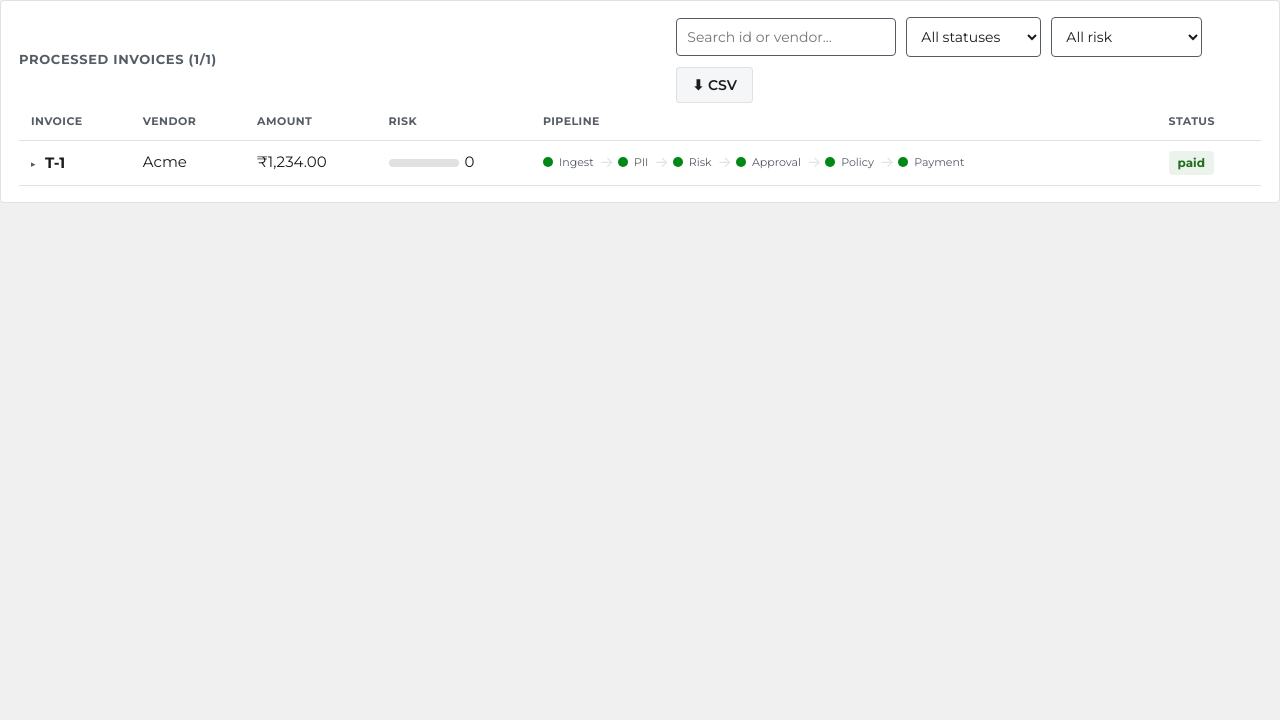
Scenario: InvoiceTable › exposes the detail drawer as a real, keyboard-operable button
Click the button named "Show details for T-1".
click(48, 163)  # box [31, 152, 65, 174]
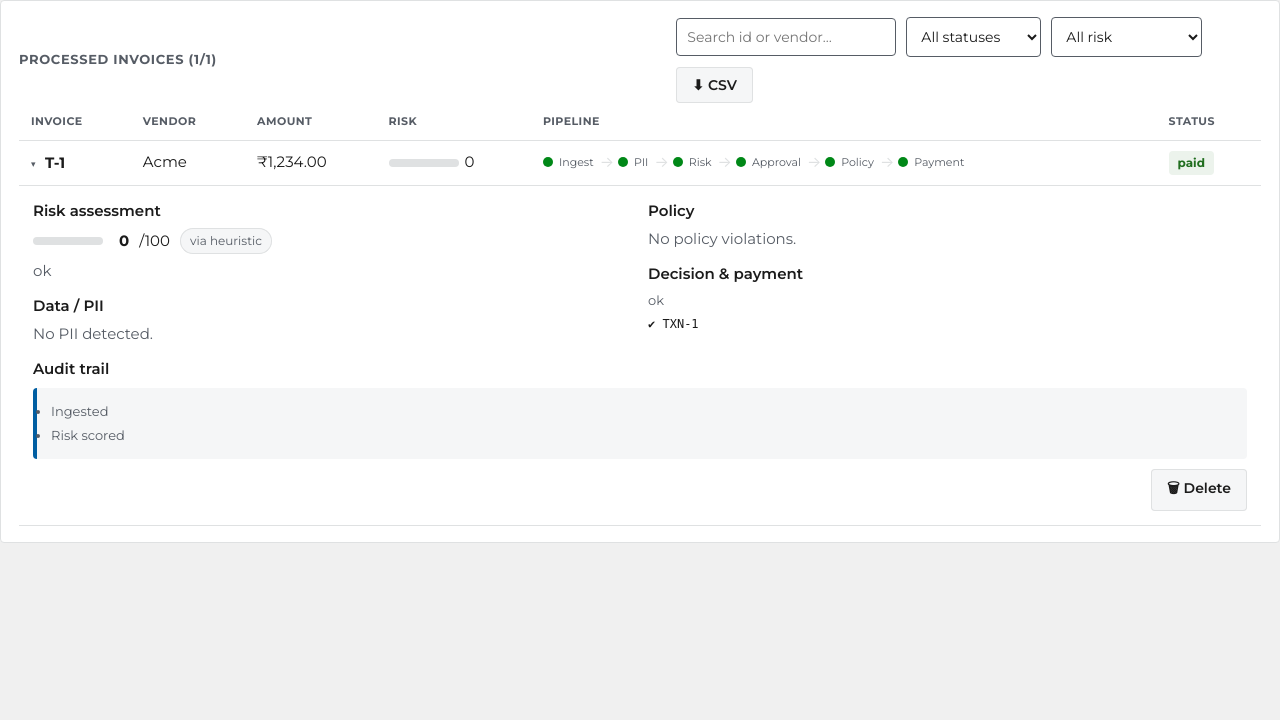
Expected: the heading "Risk assessment" is shown, [33, 200, 161, 220]
Expected: the button named "Hide details for T-1" is expanded, [31, 152, 65, 174]
